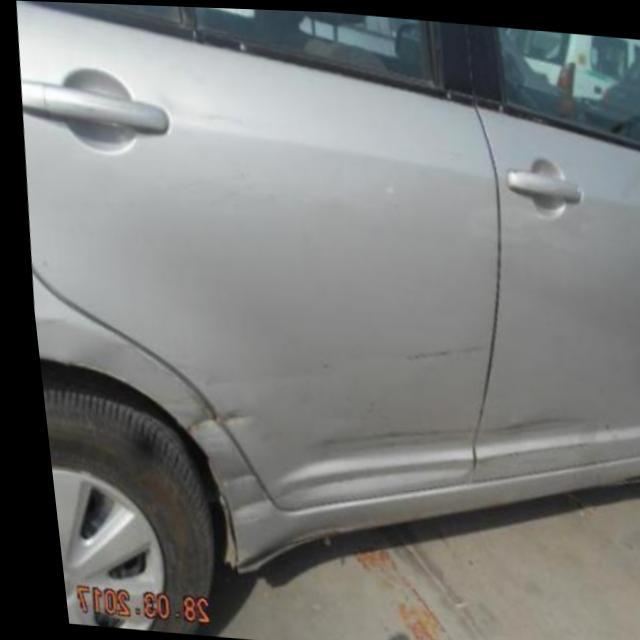rub: (82, 334, 262, 523)
scratch: (305, 414, 582, 453), (388, 339, 483, 362)
